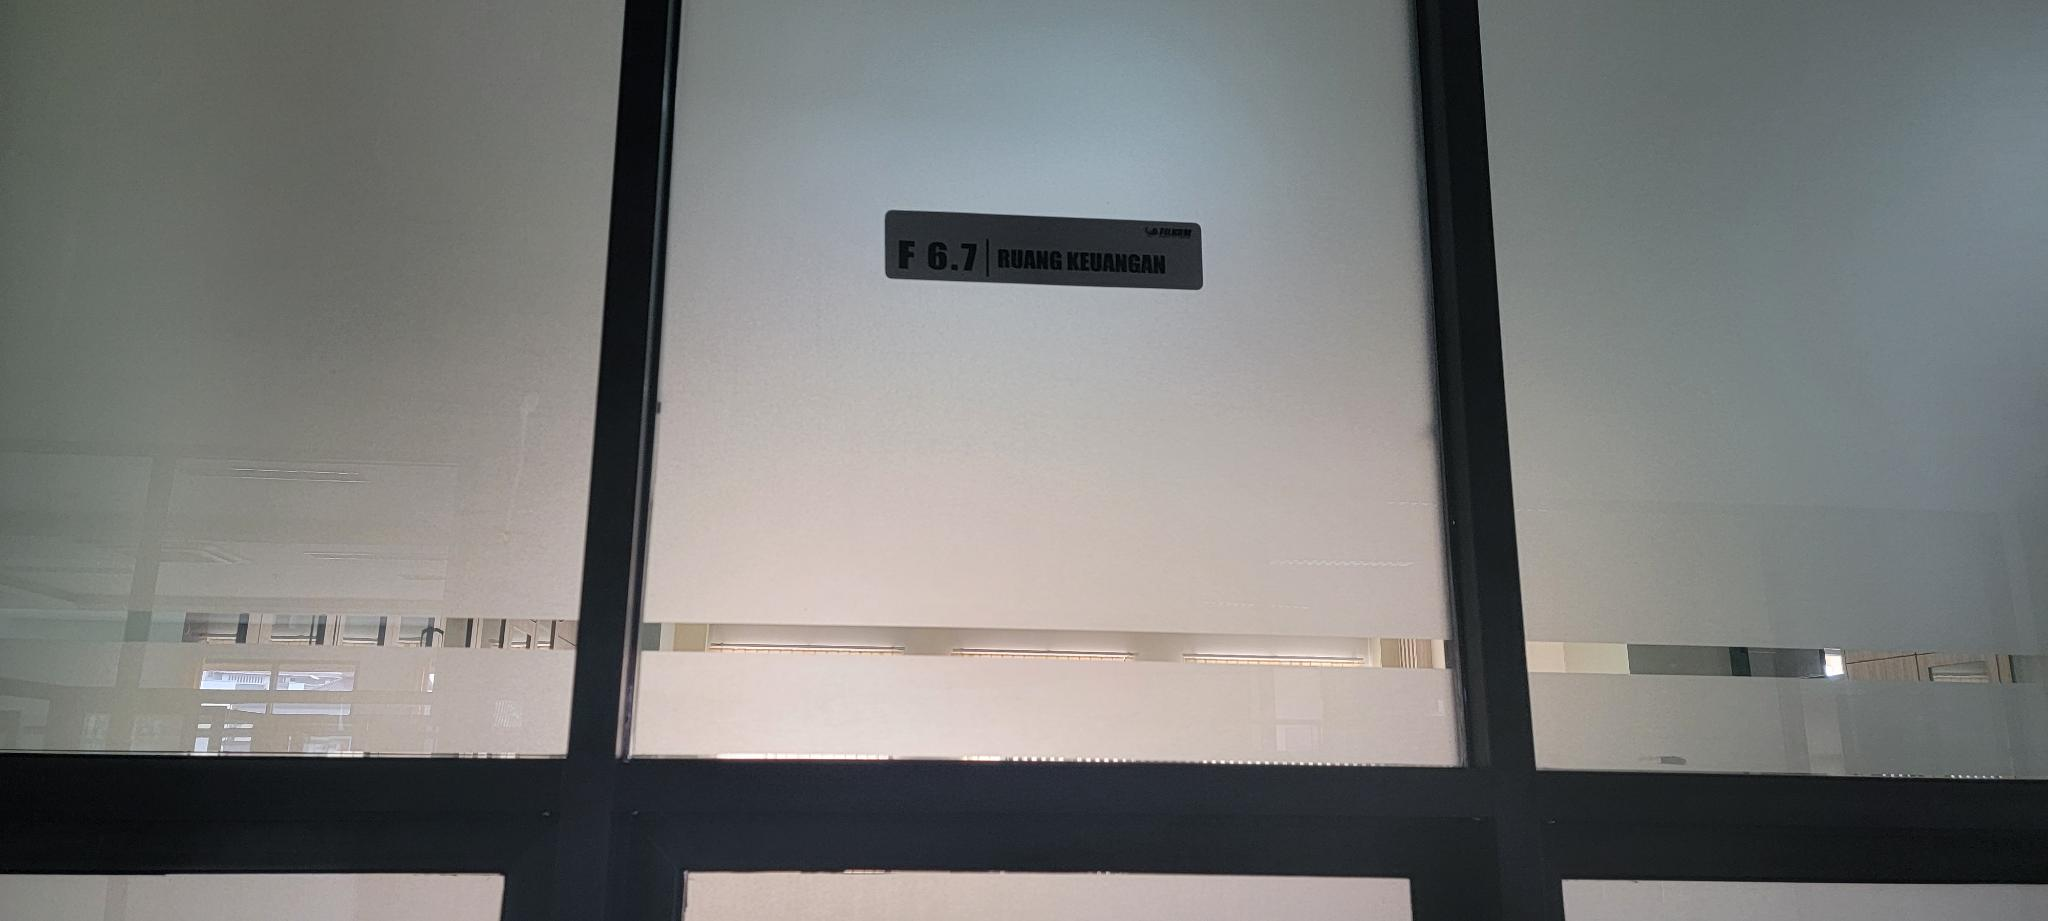plate: (883, 209, 1202, 291)
